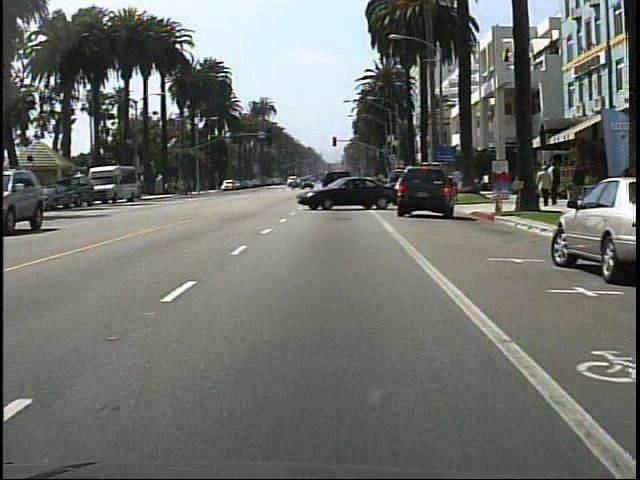person: (569, 155, 591, 210), (548, 160, 564, 210), (374, 169, 391, 208), (538, 165, 552, 210)
